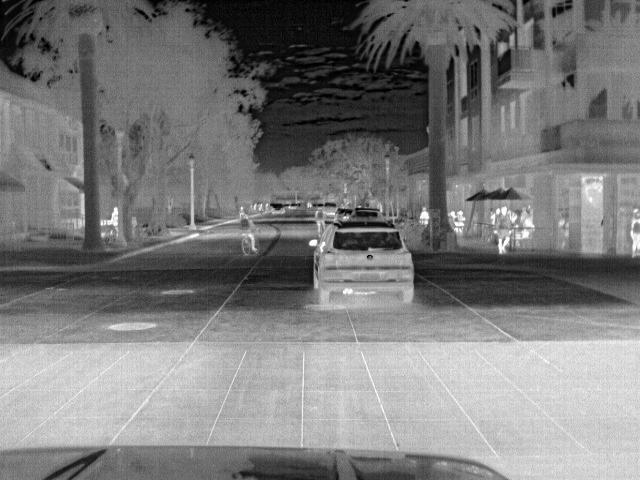car: (308, 220, 416, 310), (349, 208, 382, 222), (319, 202, 339, 218), (270, 204, 288, 218)
person: (237, 209, 258, 253), (496, 205, 512, 254), (627, 207, 639, 257), (108, 204, 121, 230), (416, 205, 430, 228)
